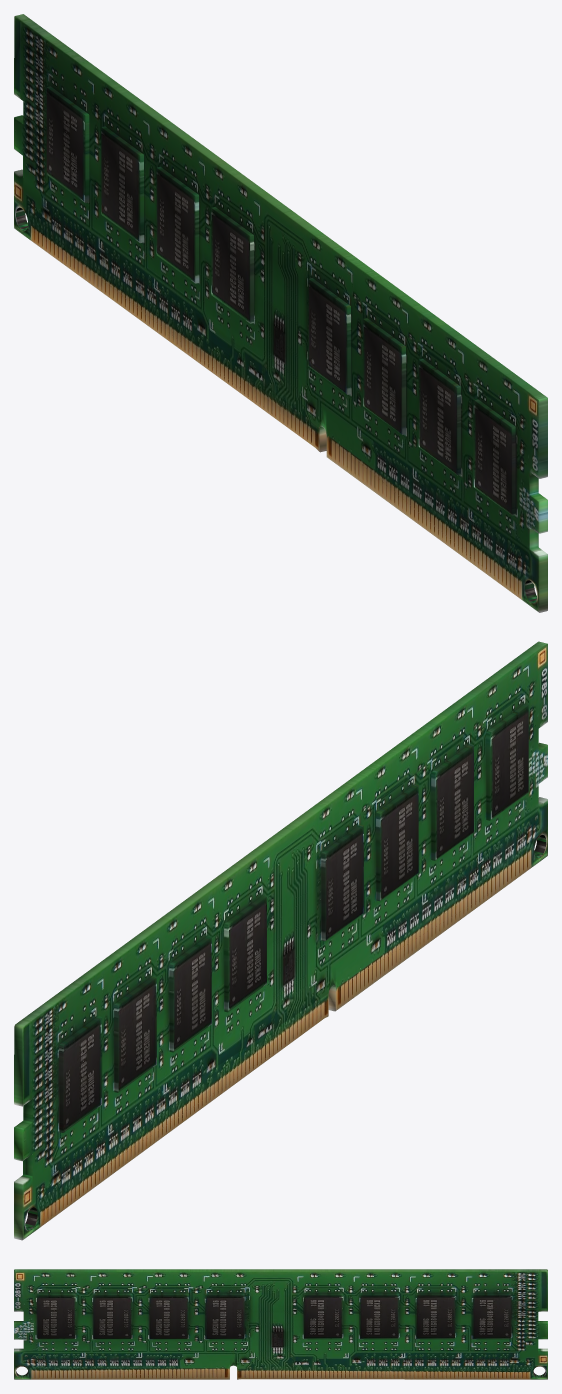
Rendered from ram.glb.
The picture shows the model from 3 angles, top to bottom: view 1: azimuth 30°, elevation 25°; view 2: azimuth 150°, elevation 25°; view 3: azimuth 270°, elevation 25°; orthographic projection. The views are drawn at different scales.
Parts seen in each view (by area): view 1: Cube; view 2: Cube; view 3: Cube.
Part boxes in pixels (x1,y1,x2,y2): Cube: [14, 14, 547, 612]; Cube: [14, 641, 547, 1240]; Cube: [14, 1269, 547, 1379].
Size of the model in its own units: 0.0864 by 1.04 by 4.65.
Materials: 1 (1 with a texture image).
